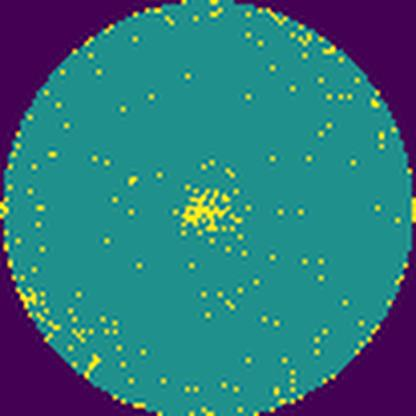Center: (179, 189, 237, 233)
